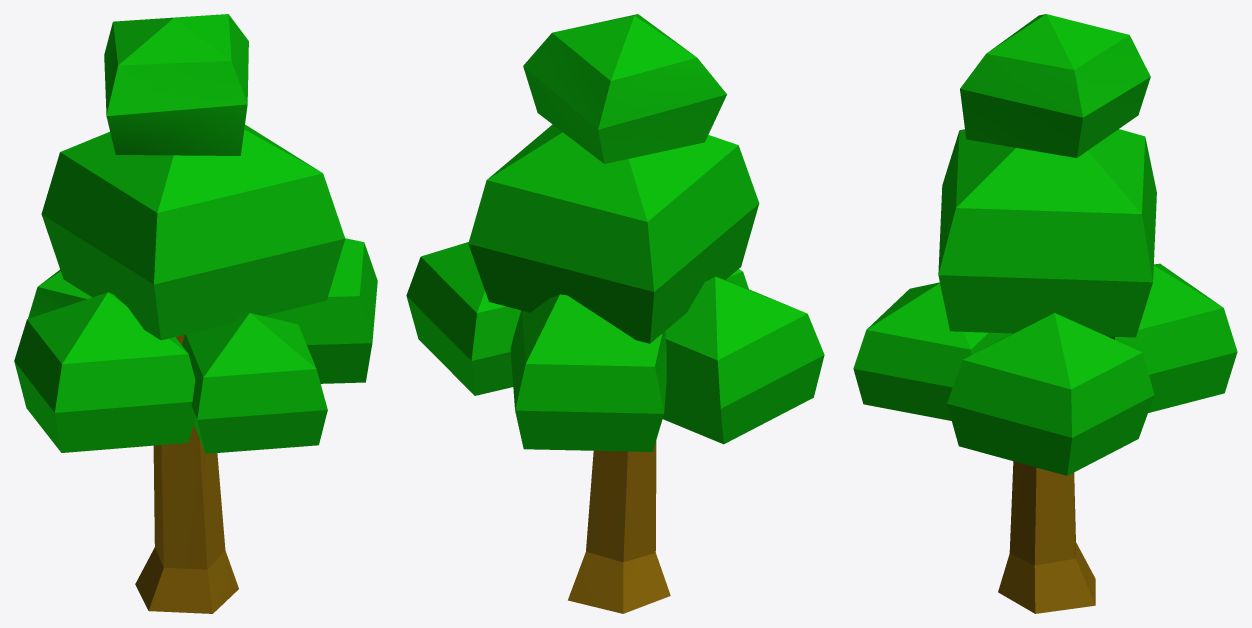
Rendered from tree_generic_00.fbx.
3 renders of one model, left to right at view 1: azimuth 30°, elevation 25°; view 2: azimuth 150°, elevation 25°; view 3: azimuth 270°, elevation 25°, orthographic.
Visible parts, largest first — view 1: tree; view 2: tree; view 3: tree.
Boxes of the visible parts, x1,y1,x2,y2 form: tree: [14, 14, 377, 613]; tree: [406, 14, 824, 613]; tree: [853, 14, 1237, 613].
Size of the model in its own units: 47.91 by 71.51 by 43.57.
